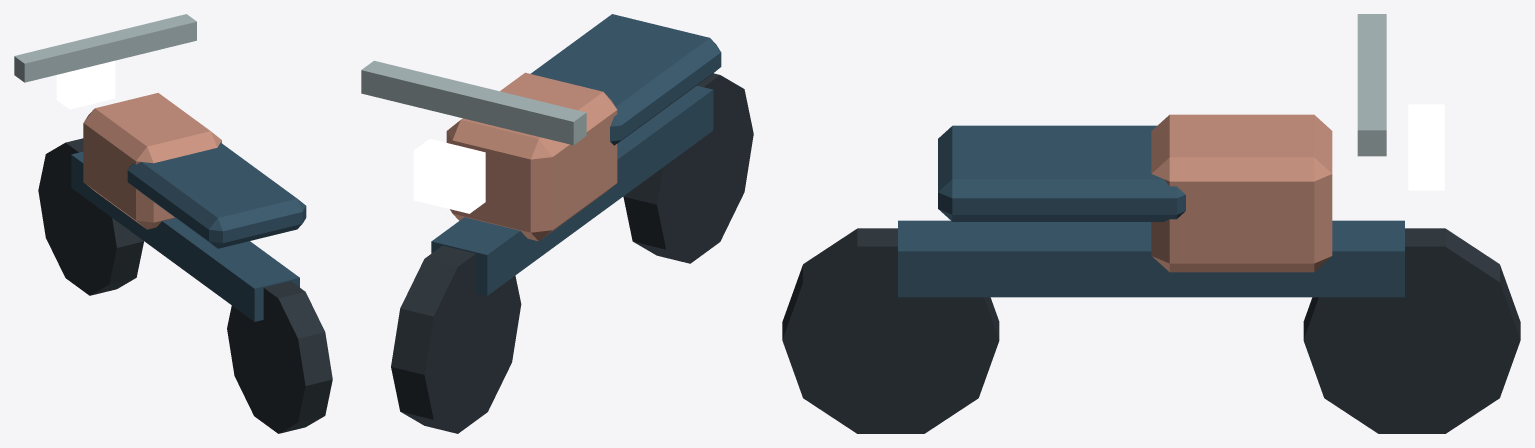
Rendered from bike.glb.
3 renders of one model, left to right at view 1: azimuth 30°, elevation 25°; view 2: azimuth 150°, elevation 25°; view 3: azimuth 270°, elevation 25°, orthographic. The views are drawn at different scales.
Visible parts, largest first — view 1: bike; view 2: bike; view 3: bike.
Boxes of the visible parts, <box> form: bike: <box>14,14,332,433</box>; bike: <box>361,14,753,433</box>; bike: <box>782,14,1520,433</box>.
Size of the model in its own units: 0.76 by 1.08 by 2.04.
